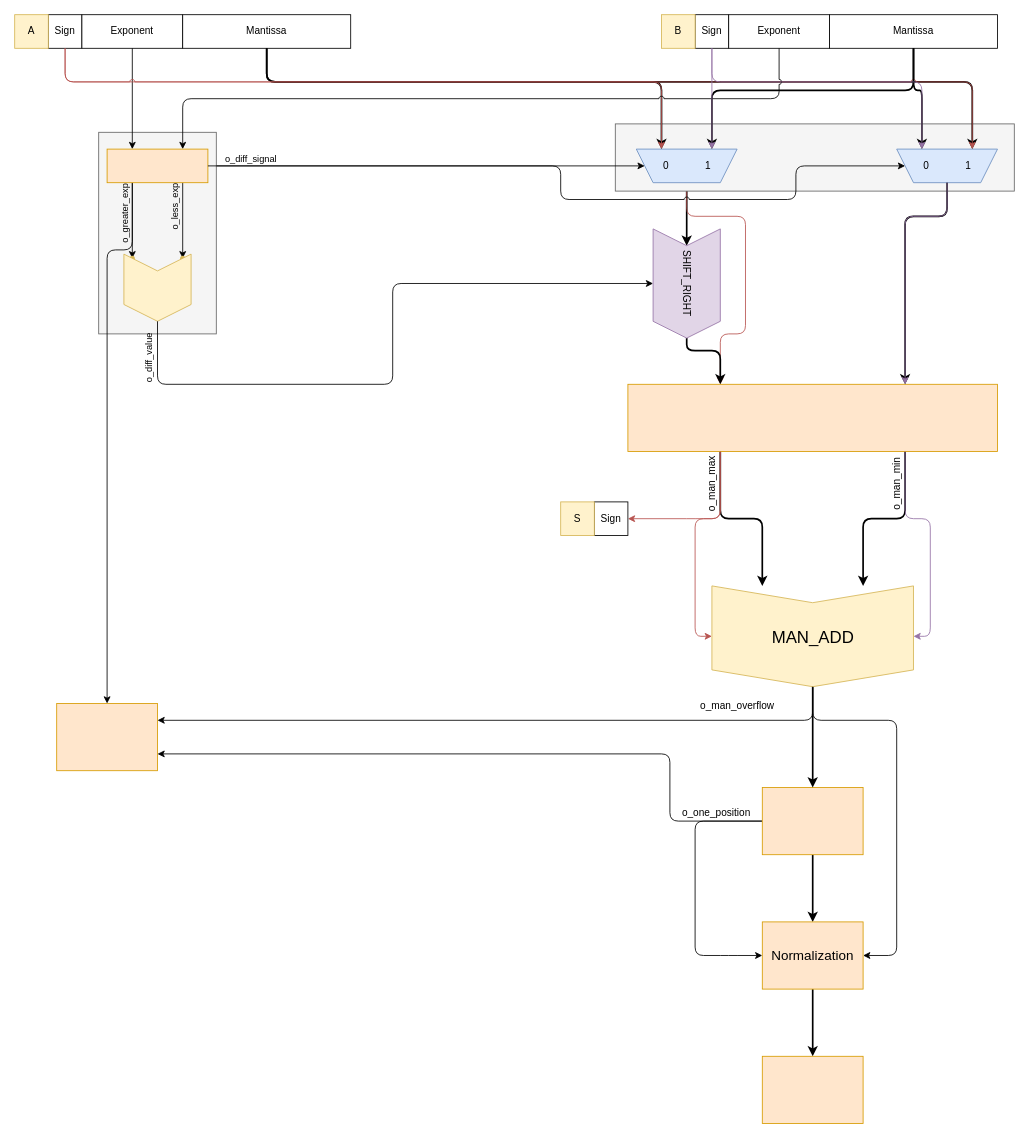
Image size: 1029x1138. Some labels were removed from this diagram. Each missing label, with the centre of its shape:
EXP_adjust: (107,737)
EXP_SUB: (157,287)
EXP_swap: (157,165)
LOPD_24bit: (812,821)
MAN_swap: (812,417)
Rounding: (812,1089)
